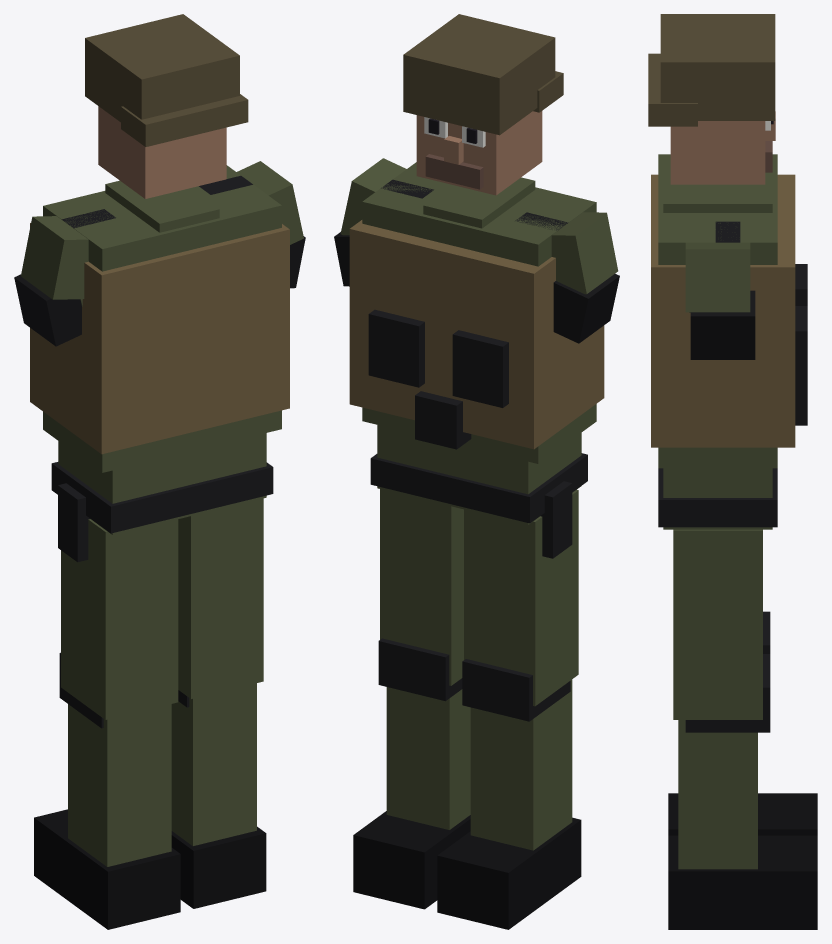
File: character_tpose.glb
3 renders of one model, left to right at view 1: azimuth 30°, elevation 25°; view 2: azimuth 150°, elevation 25°; view 3: azimuth 270°, elevation 25°, orthographic. The views are drawn at different scales.
Parts seen in each view (by area): view 1: _MeshInstance3D_33, _MeshInstance3D_67, _MeshInstance3D_62, _MeshInstance3D_69, _MeshInstance3D_32, _MeshInstance3D_64, _MeshInstance3D_42, _MeshInstance3D_70, _MeshInstance3D_28, _MeshInstance3D_41, _MeshInstance3D_29, _MeshInstance3D_65 (+7 smaller); view 2: _MeshInstance3D_33, _MeshInstance3D_67, _MeshInstance3D_42, _MeshInstance3D_69, _MeshInstance3D_62, _MeshInstance3D_32, _MeshInstance3D_64, _MeshInstance3D_70, _MeshInstance3D_65, _MeshInstance3D_28, _MeshInstance3D_29, _MeshInstance3D_41 (+13 smaller); view 3: _MeshInstance3D_33, _MeshInstance3D_62, _MeshInstance3D_42, _MeshInstance3D_65, _MeshInstance3D_64, _MeshInstance3D_32, _MeshInstance3D_41, _MeshInstance3D_52, _MeshInstance3D_29, _MeshInstance3D_28, _MeshInstance3D_39, _MeshInstance3D_60 (+7 smaller).
Part boxes in pixels (x1,y1,x2,y2): _MeshInstance3D_33: [30, 223, 289, 454]; _MeshInstance3D_67: [61, 519, 178, 719]; _MeshInstance3D_62: [178, 498, 263, 698]; _MeshInstance3D_69: [68, 704, 171, 866]; _MeshInstance3D_32: [43, 165, 281, 472]; _MeshInstance3D_64: [171, 683, 256, 845]; _MeshInstance3D_42: [85, 14, 239, 122]; _MeshInstance3D_70: [34, 809, 180, 929]; _MeshInstance3D_28: [58, 433, 266, 534]; _MeshInstance3D_41: [98, 106, 226, 198]; _MeshInstance3D_29: [51, 462, 273, 533]; _MeshInstance3D_65: [171, 826, 266, 908]; _MeshInstance3D_33: [349, 220, 604, 449]; _MeshInstance3D_67: [464, 489, 578, 706]; _MeshInstance3D_42: [403, 14, 555, 135]; _MeshInstance3D_69: [470, 679, 572, 850]; _MeshInstance3D_62: [380, 489, 463, 685]; _MeshInstance3D_32: [362, 162, 596, 463]; _MeshInstance3D_64: [386, 687, 470, 829]; _MeshInstance3D_70: [437, 817, 581, 929]; _MeshInstance3D_65: [353, 811, 470, 909]; _MeshInstance3D_28: [377, 425, 581, 524]; _MeshInstance3D_29: [370, 453, 587, 523]; _MeshInstance3D_41: [416, 111, 542, 195]; _MeshInstance3D_33: [651, 174, 795, 447]; _MeshInstance3D_62: [673, 529, 762, 719]; _MeshInstance3D_42: [660, 14, 775, 120]; _MeshInstance3D_65: [668, 835, 817, 929]; _MeshInstance3D_64: [678, 720, 757, 869]; _MeshInstance3D_32: [658, 154, 777, 468]; _MeshInstance3D_41: [670, 121, 765, 184]; _MeshInstance3D_52: [685, 242, 750, 312]; _MeshInstance3D_29: [658, 468, 777, 527]; _MeshInstance3D_28: [663, 468, 772, 529]; _MeshInstance3D_39: [663, 174, 772, 212]; _MeshInstance3D_60: [690, 290, 755, 359].
Bounding box in the file's own units: 0.6069 × 1.89 × 0.34.
